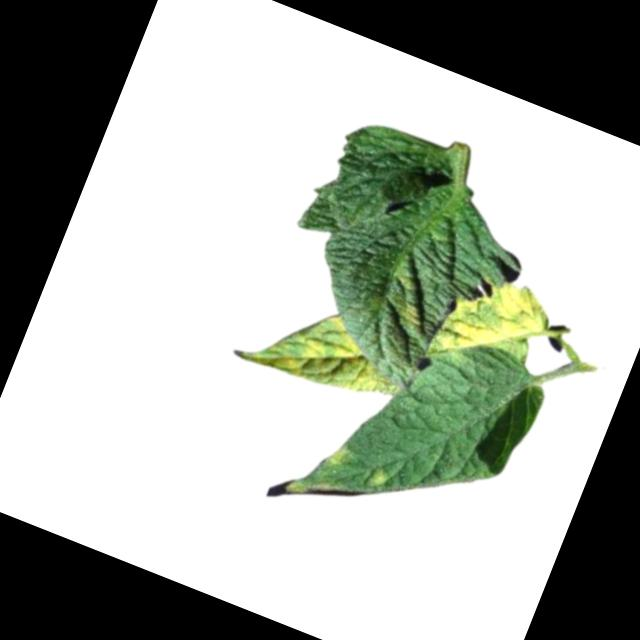Leaf_Mold: (232, 284, 410, 414), (433, 263, 558, 388), (390, 293, 431, 330), (363, 461, 396, 492), (325, 439, 355, 472)
